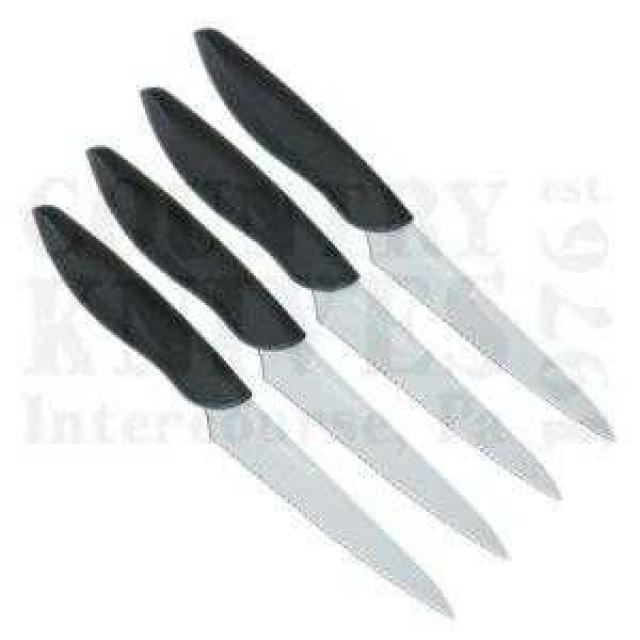knife: (28, 23, 628, 623)
